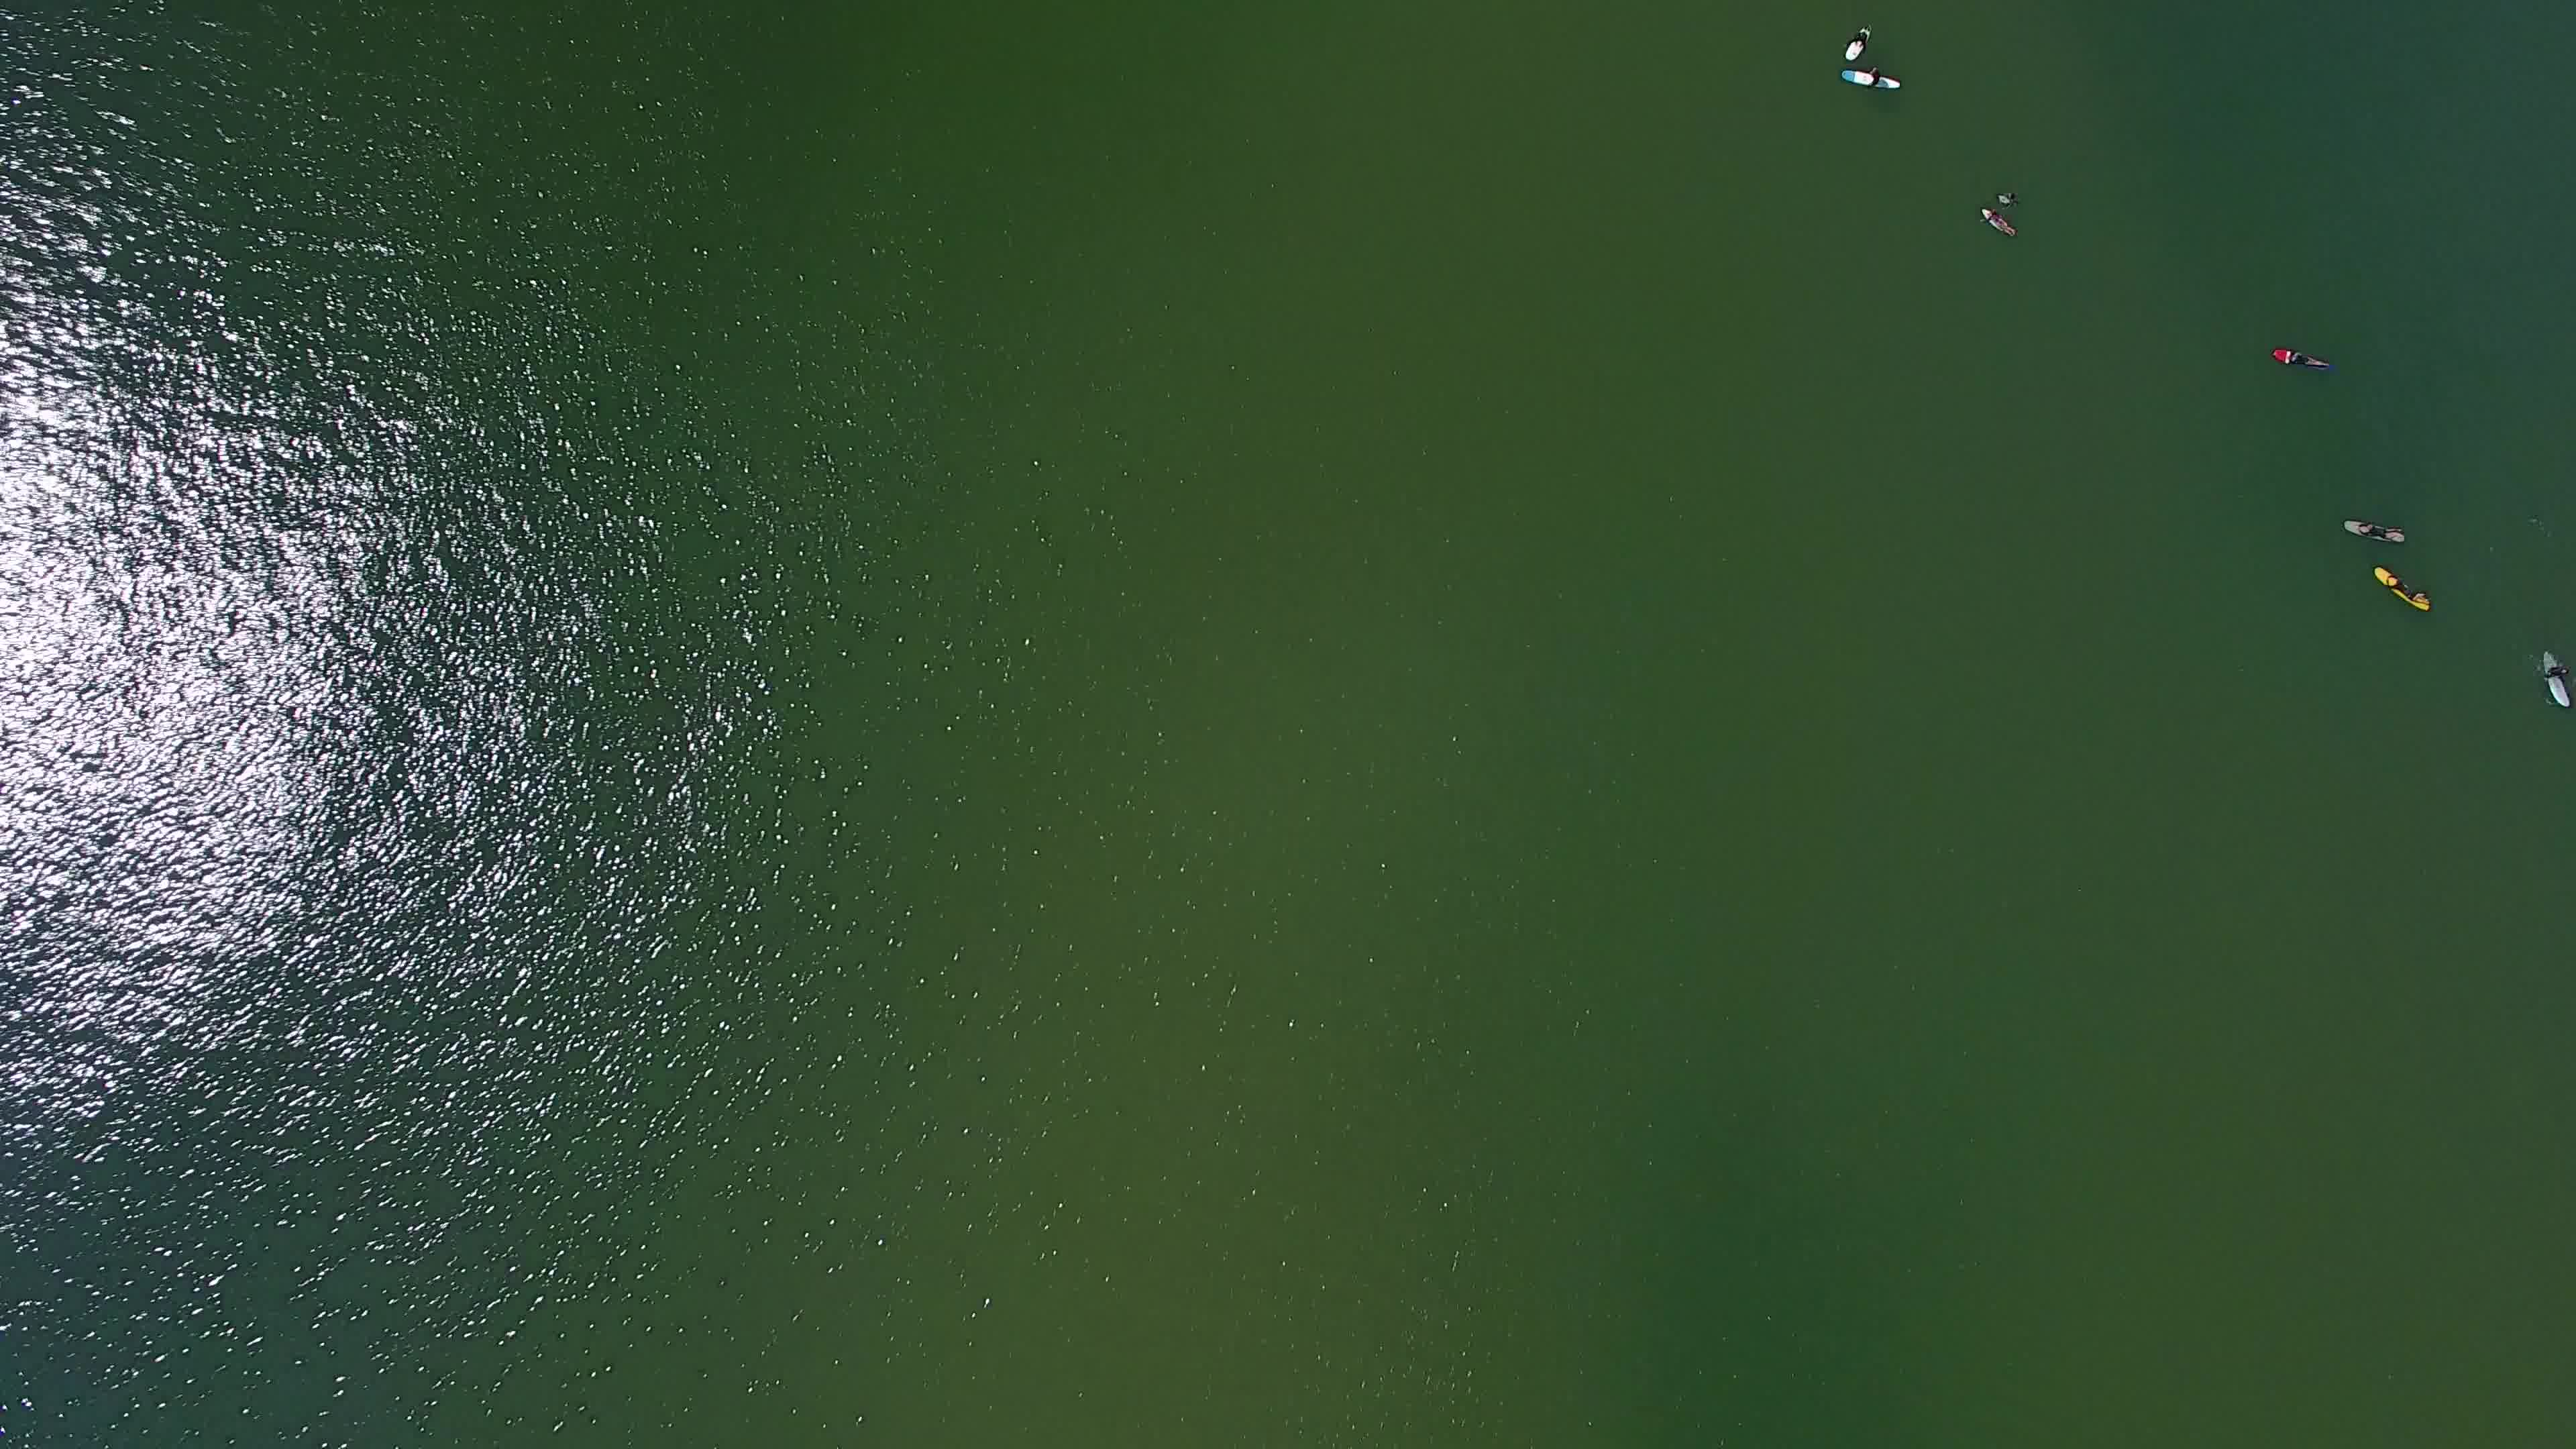surfer: (2362, 559, 2434, 617), (2337, 502, 2411, 552), (2534, 646, 2576, 713), (2266, 338, 2332, 375), (1836, 67, 1900, 97), (1976, 207, 2020, 242), (1836, 30, 1875, 62), (1994, 182, 2026, 205)
